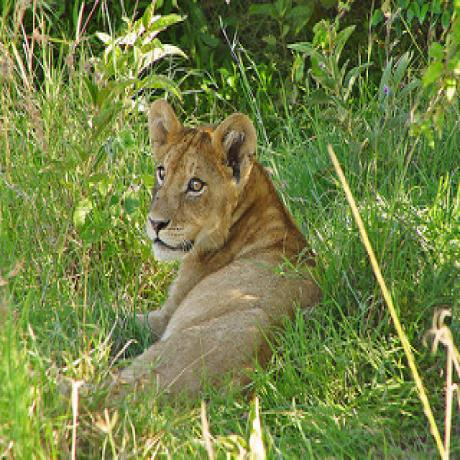Lion: (129, 94, 317, 406)
